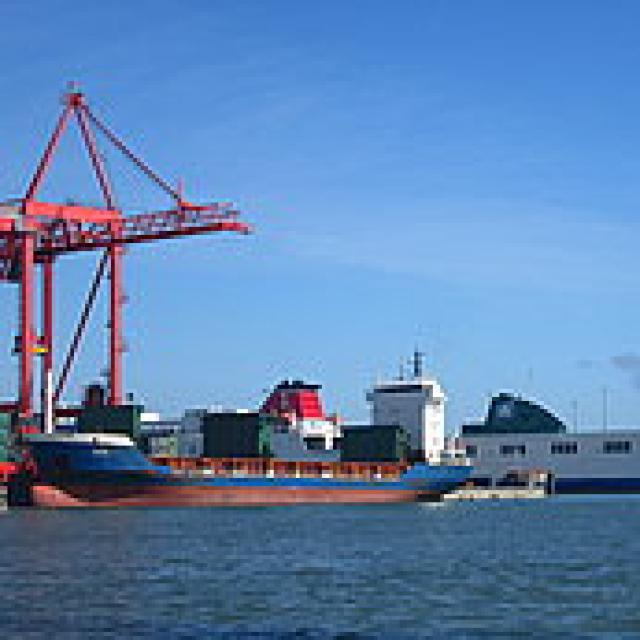Cargo: (11, 340, 474, 507)
